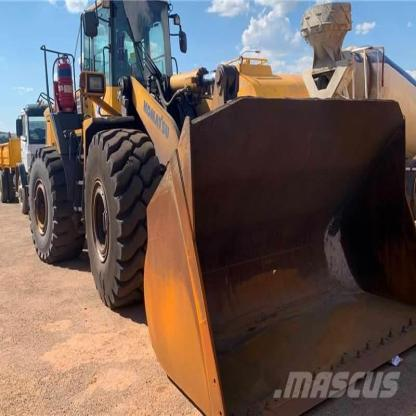bull_dozer/loader/grader: (17, 4, 416, 415)
